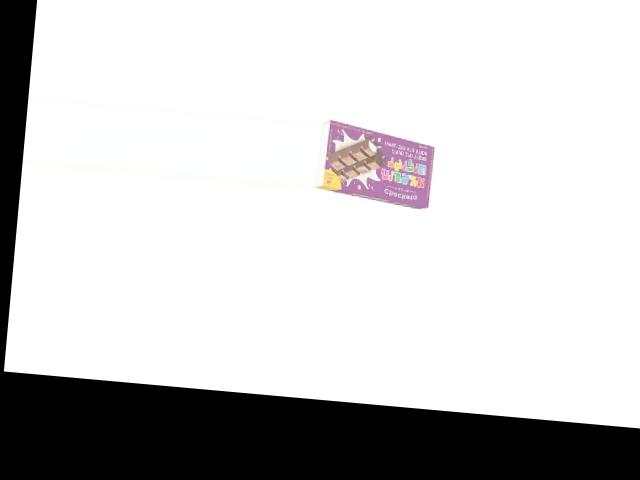chocolate: (312, 124, 443, 210)
